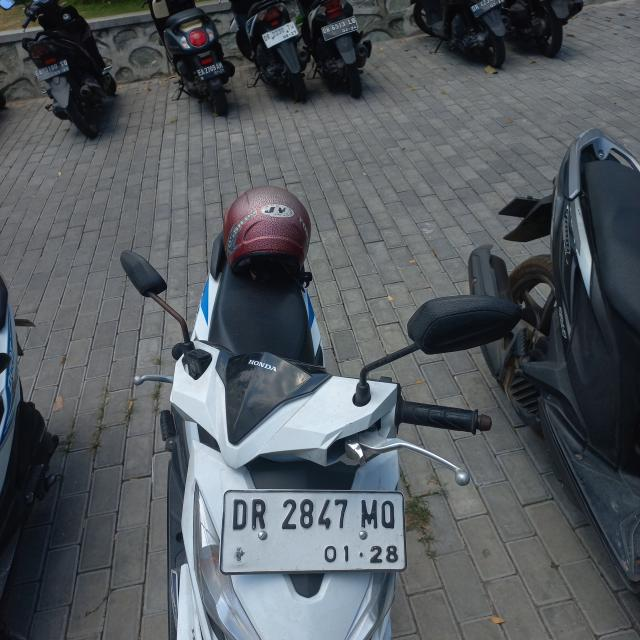plate: (222, 488, 406, 574), (261, 20, 299, 49), (320, 15, 359, 42), (35, 58, 70, 83), (196, 60, 225, 82)
